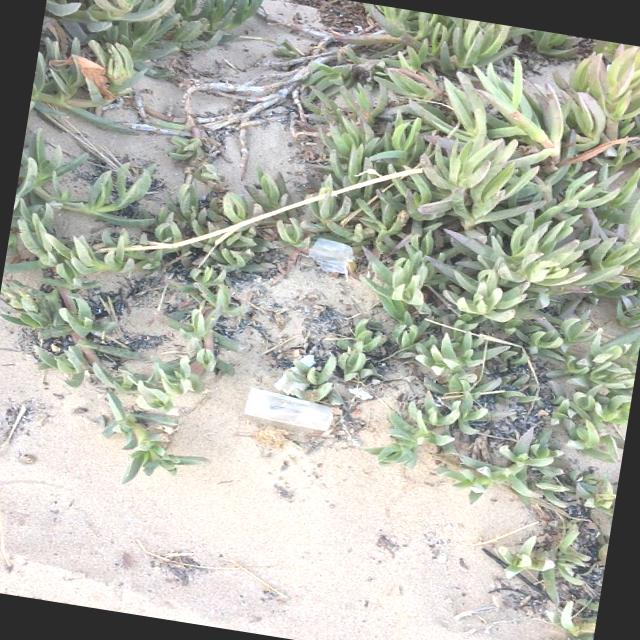Trash: (233, 384, 340, 434), (312, 235, 361, 278)
